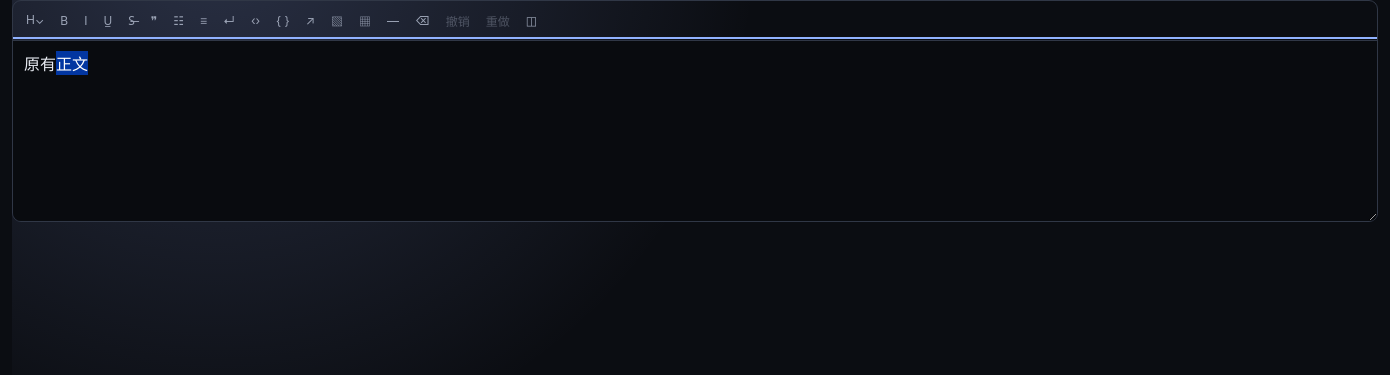
Test: formats the selection without losing surrounding text and supports undo and redo
Click the button named "正文：粗体". click: (64, 20)
box: [53,7,75,34]
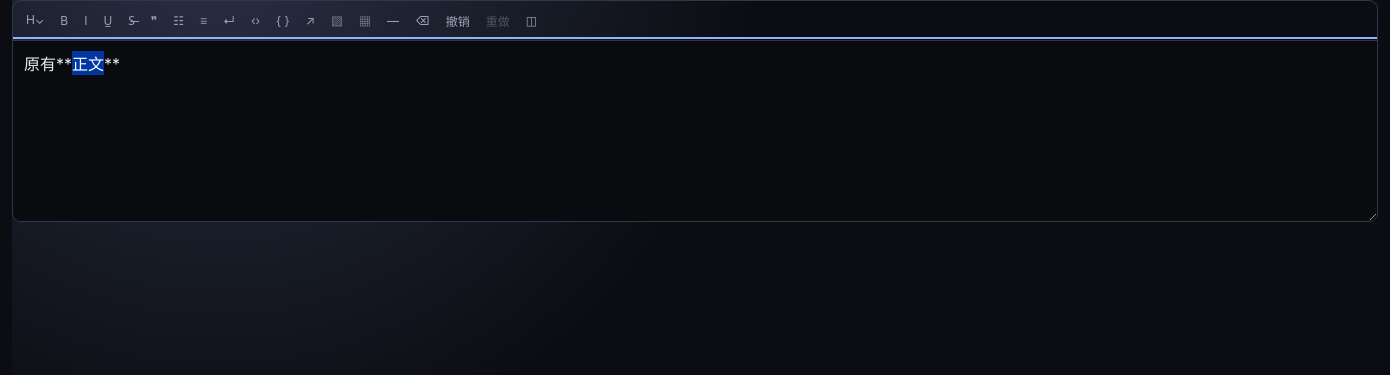
Now the text box named "正文" holds "原有**正文**", box [13,41,1377,221]
Click the button "撤销". click: (458, 20)
box: [439,7,477,34]
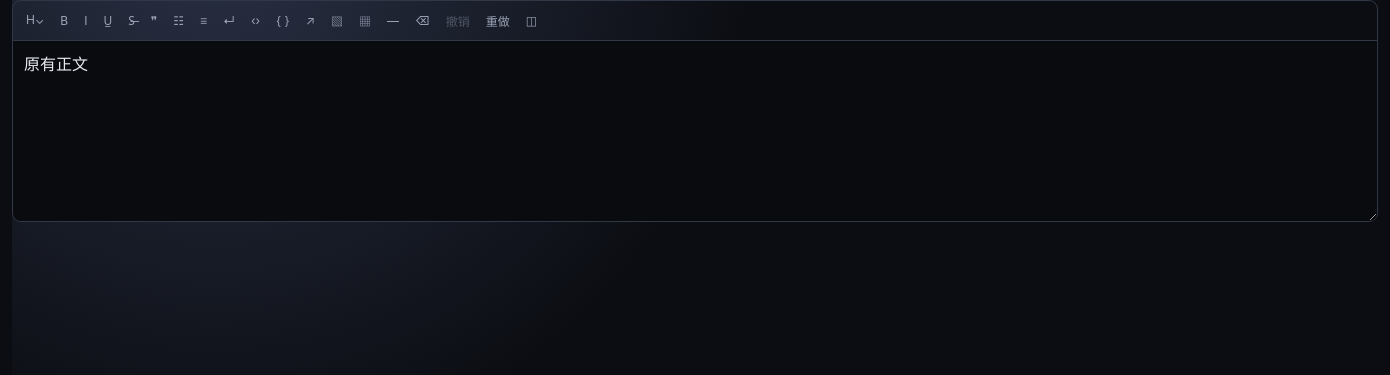
Now the text box named "正文" holds "原有正文", box [13,41,1377,221]
Click the button "重做". click: (498, 20)
box: [479,7,517,34]
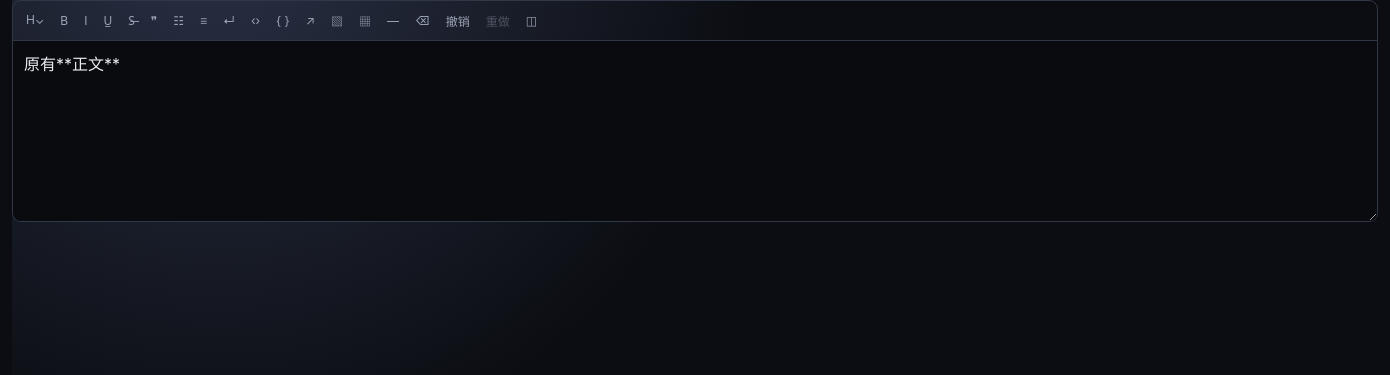
Now the text box named "正文" holds "原有**正文**", box [13,41,1377,221]
